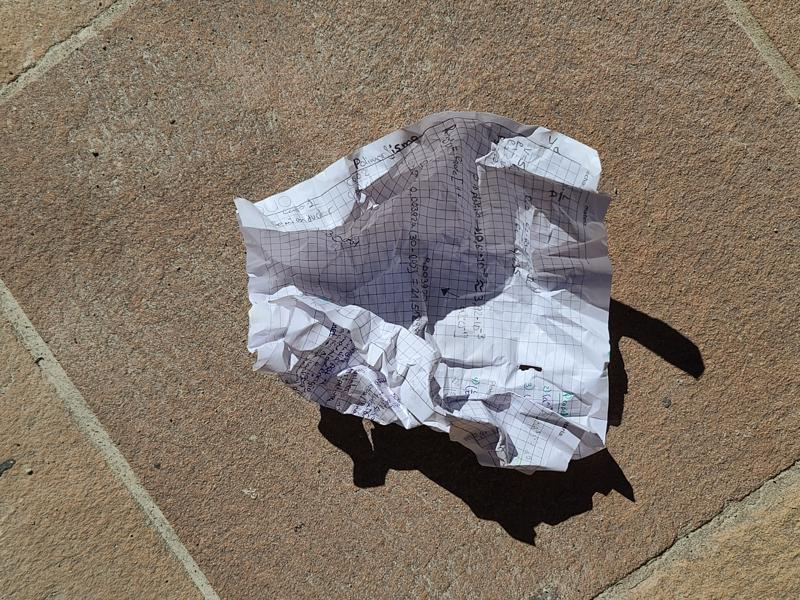papel: (235, 112, 611, 472)
